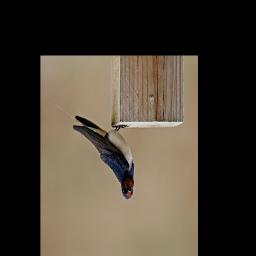Swallow: (53, 102, 135, 203)
